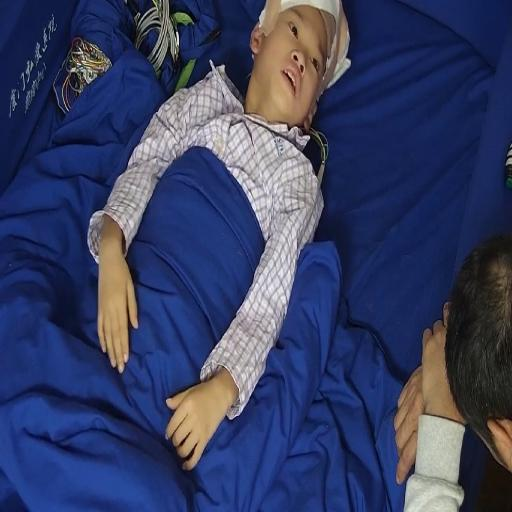Seizure: (257, 5, 339, 132)
